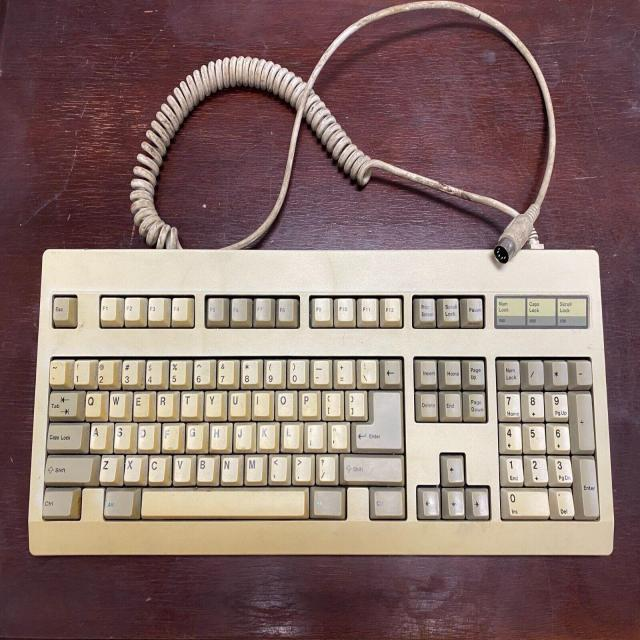keyboard: (19, 247, 619, 559)
